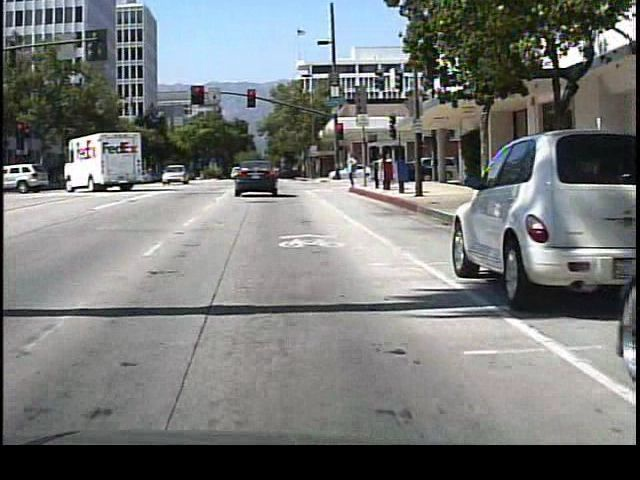person: (343, 150, 364, 194)
